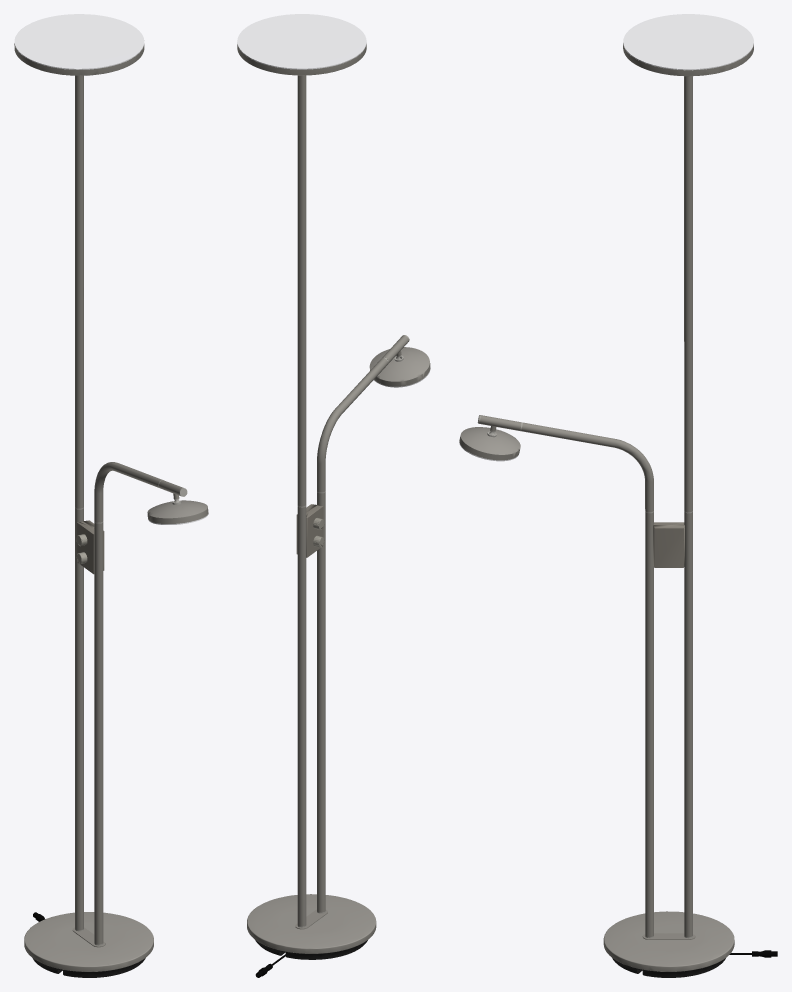
File: 26 - ISJAKT LED floor uplighterreading lamp - dimmablenickel-plated 180 cm.glb
3 views of the same model, side by side, from view 1: azimuth 30°, elevation 25°; view 2: azimuth 150°, elevation 25°; view 3: azimuth 270°, elevation 25° (orthographic).
Parts seen in each view (by area): view 1: Mesh_1; view 2: Mesh_1; view 3: Mesh_1.
Boxes of the visible parts, bbox=[...] form: Mesh_1: bbox=[14, 14, 208, 977]; Mesh_1: bbox=[237, 14, 430, 977]; Mesh_1: bbox=[459, 14, 777, 977].
Size of the model in its own units: 0.2351 by 1.81 by 0.572.
Materials: 2 (1 with a texture image).
